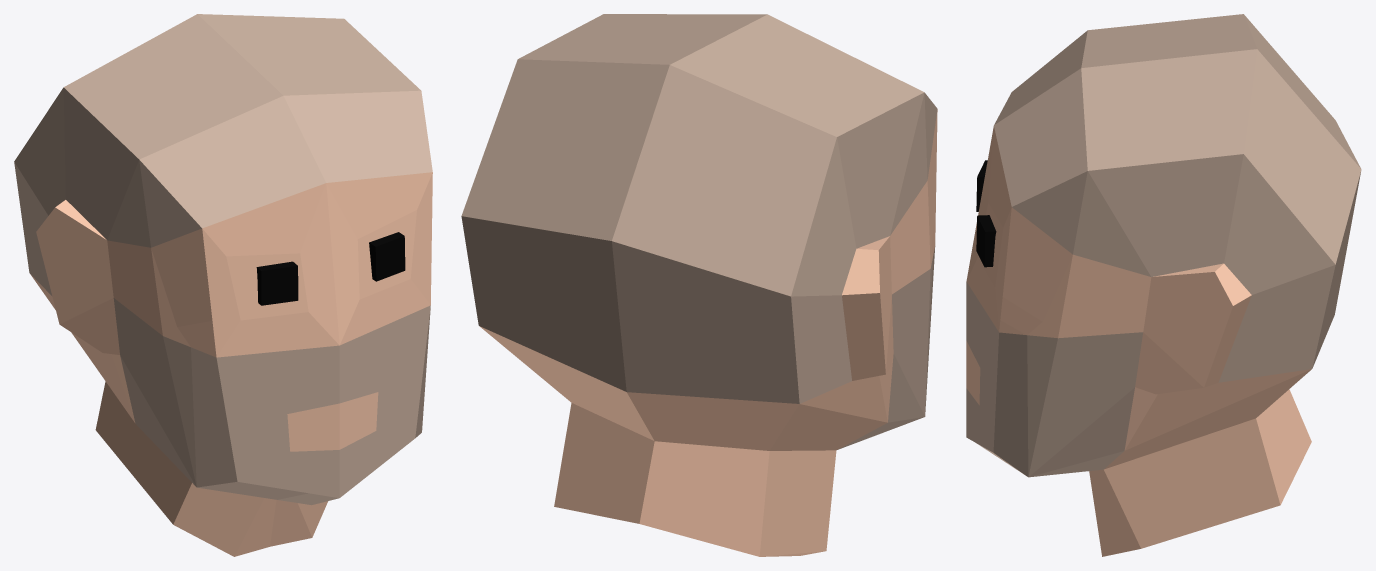
Rendered from Chr_Head_Male_18_Static.fbx.
3 views of the same model, side by side, from view 1: azimuth 30°, elevation 25°; view 2: azimuth 150°, elevation 25°; view 3: azimuth 270°, elevation 25° (orthographic). The views are drawn at different scales.
Visible parts, largest first — view 1: Chr_Head_Male_18_Static; view 2: Chr_Head_Male_18_Static; view 3: Chr_Head_Male_18_Static.
Part boxes in pixels (x1=…): Chr_Head_Male_18_Static: x1=14, y1=14, x2=432, y2=556; Chr_Head_Male_18_Static: x1=461, y1=14, x2=937, y2=556; Chr_Head_Male_18_Static: x1=966, y1=14, x2=1361, y2=556.
Bounding box in the file's own units: 0.2661 × 0.3523 × 0.2574.
